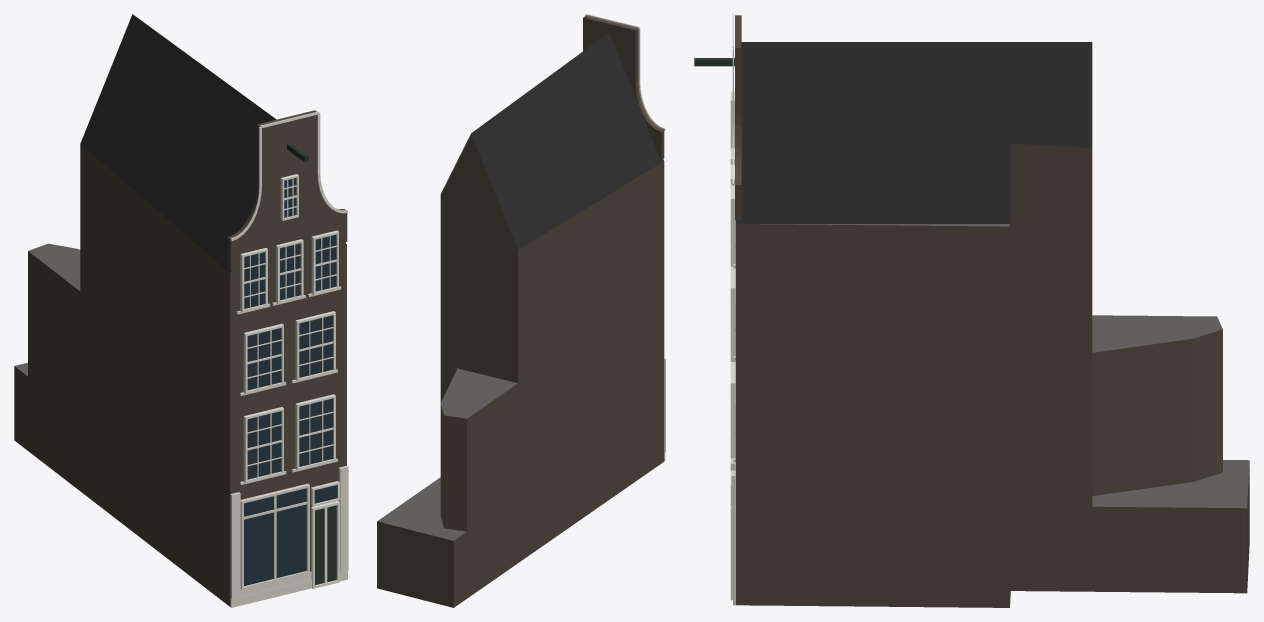
3 views of the same model, side by side, from view 1: azimuth 30°, elevation 25°; view 2: azimuth 150°, elevation 25°; view 3: azimuth 270°, elevation 25° (orthographic). The views are drawn at different scales.
Parts seen in each view (by area): view 1: spec-0363100012182851; view 2: spec-0363100012182851; view 3: spec-0363100012182851.
Part boxes in pixels (box(x1,y1,x2,y2)): spec-0363100012182851: box(14, 14, 348, 607); spec-0363100012182851: box(377, 14, 665, 607); spec-0363100012182851: box(694, 14, 1249, 607).
Bounding box in the file's own units: 4.26 × 15.94 × 14.78.
